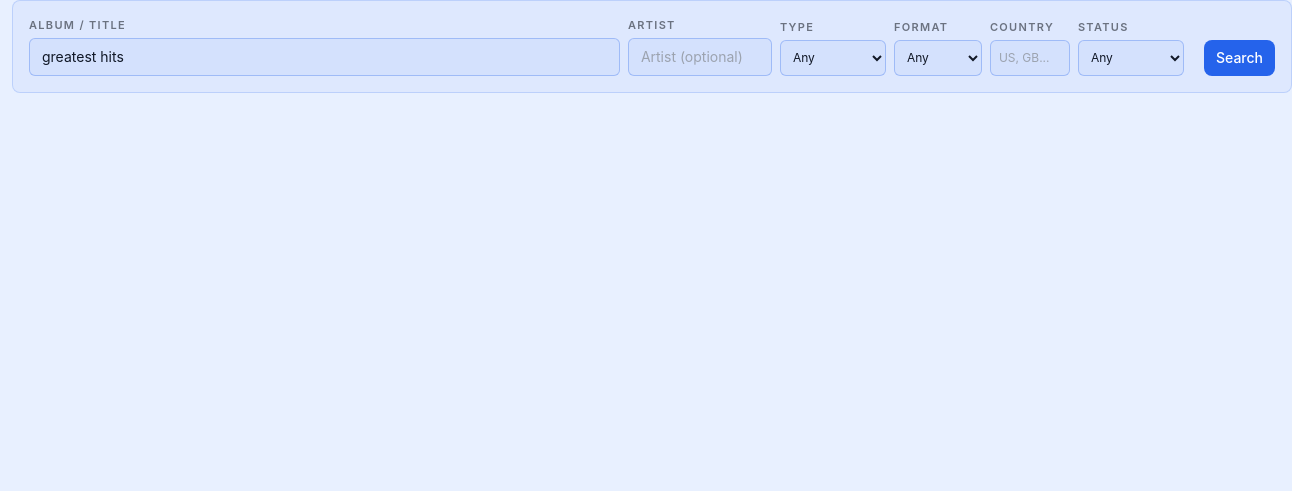
Test: renders type/format/country badges on result cards
Click the button "Search" at (1240, 58), box [1204, 40, 1275, 76]
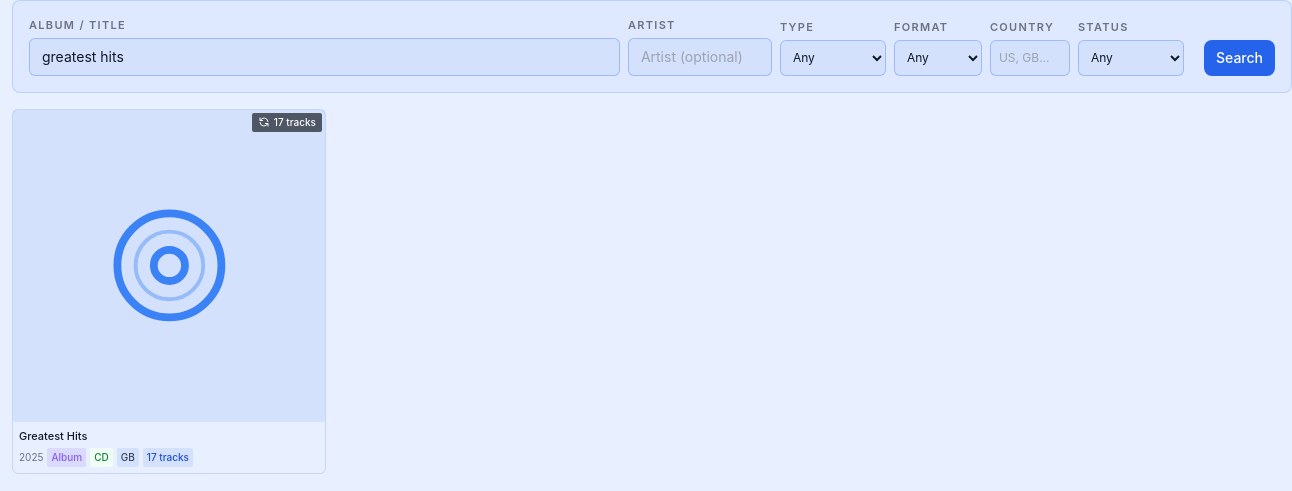
Expected: the text "Greatest Hits" is shown, [19, 428, 87, 442]
Expected: the text "Album" is shown, [48, 448, 86, 467]
Expected: the text "CD" is shown, [90, 448, 113, 467]
